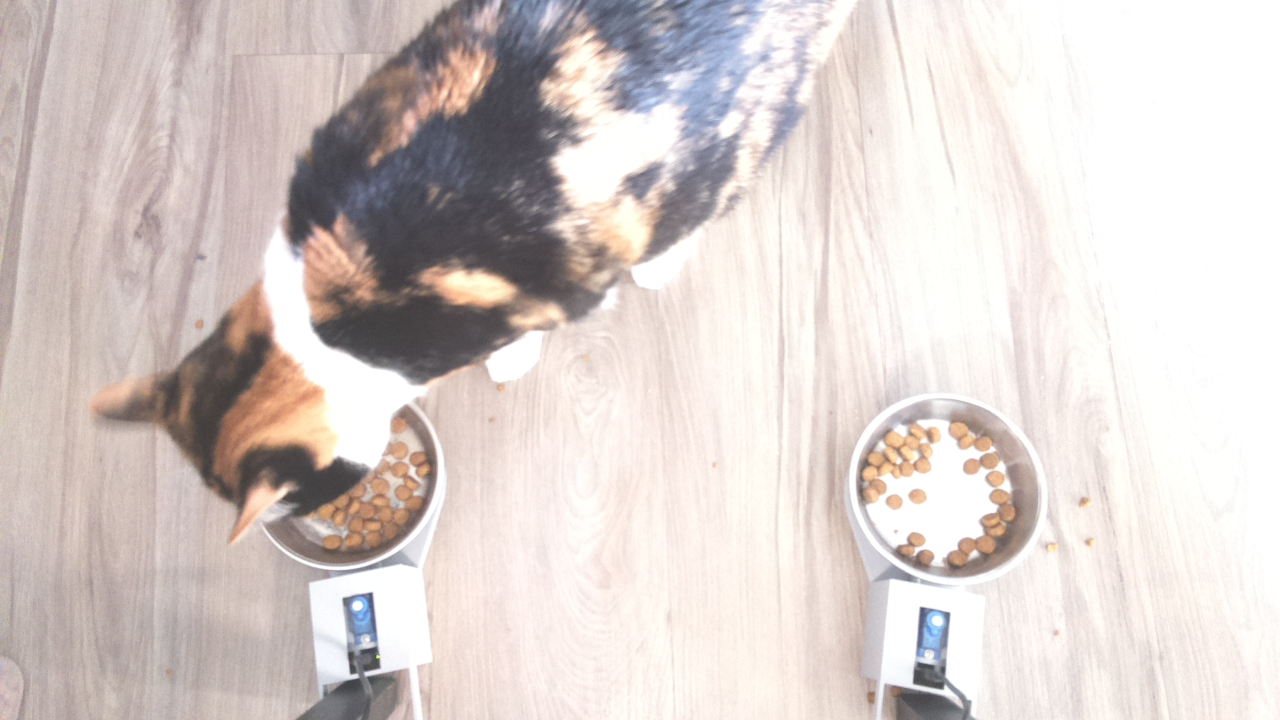bella_eating: (89, 246, 457, 568)
open_bowl: (842, 386, 1048, 589)
